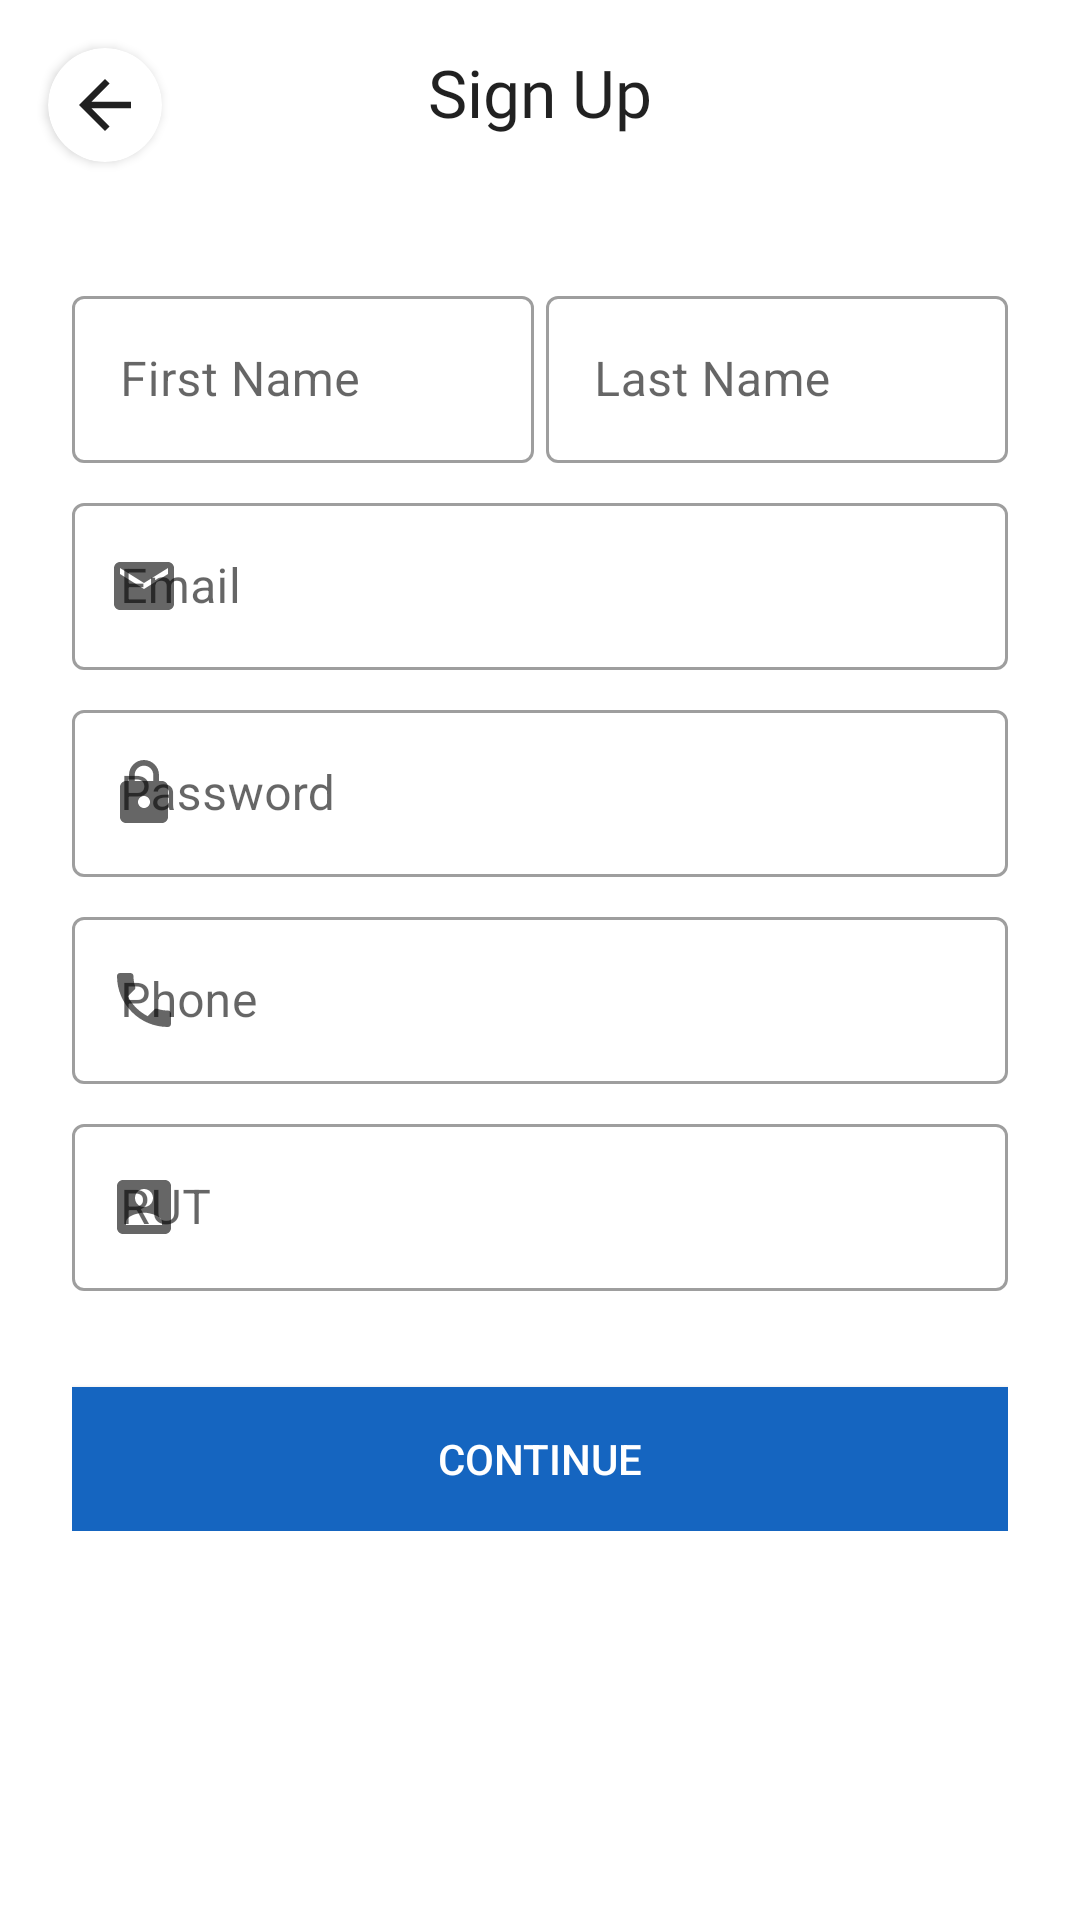

Point at icon controls on the screen. Image size 1080×1920, points as point (x, y).
arrow back: point (105, 105)
